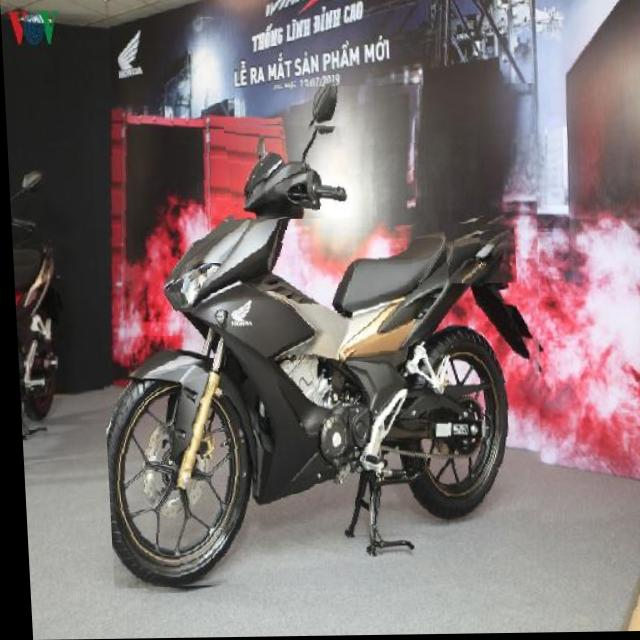All: (88, 85, 555, 590)
Head: (222, 122, 348, 220)
Tail: (441, 223, 514, 285)
